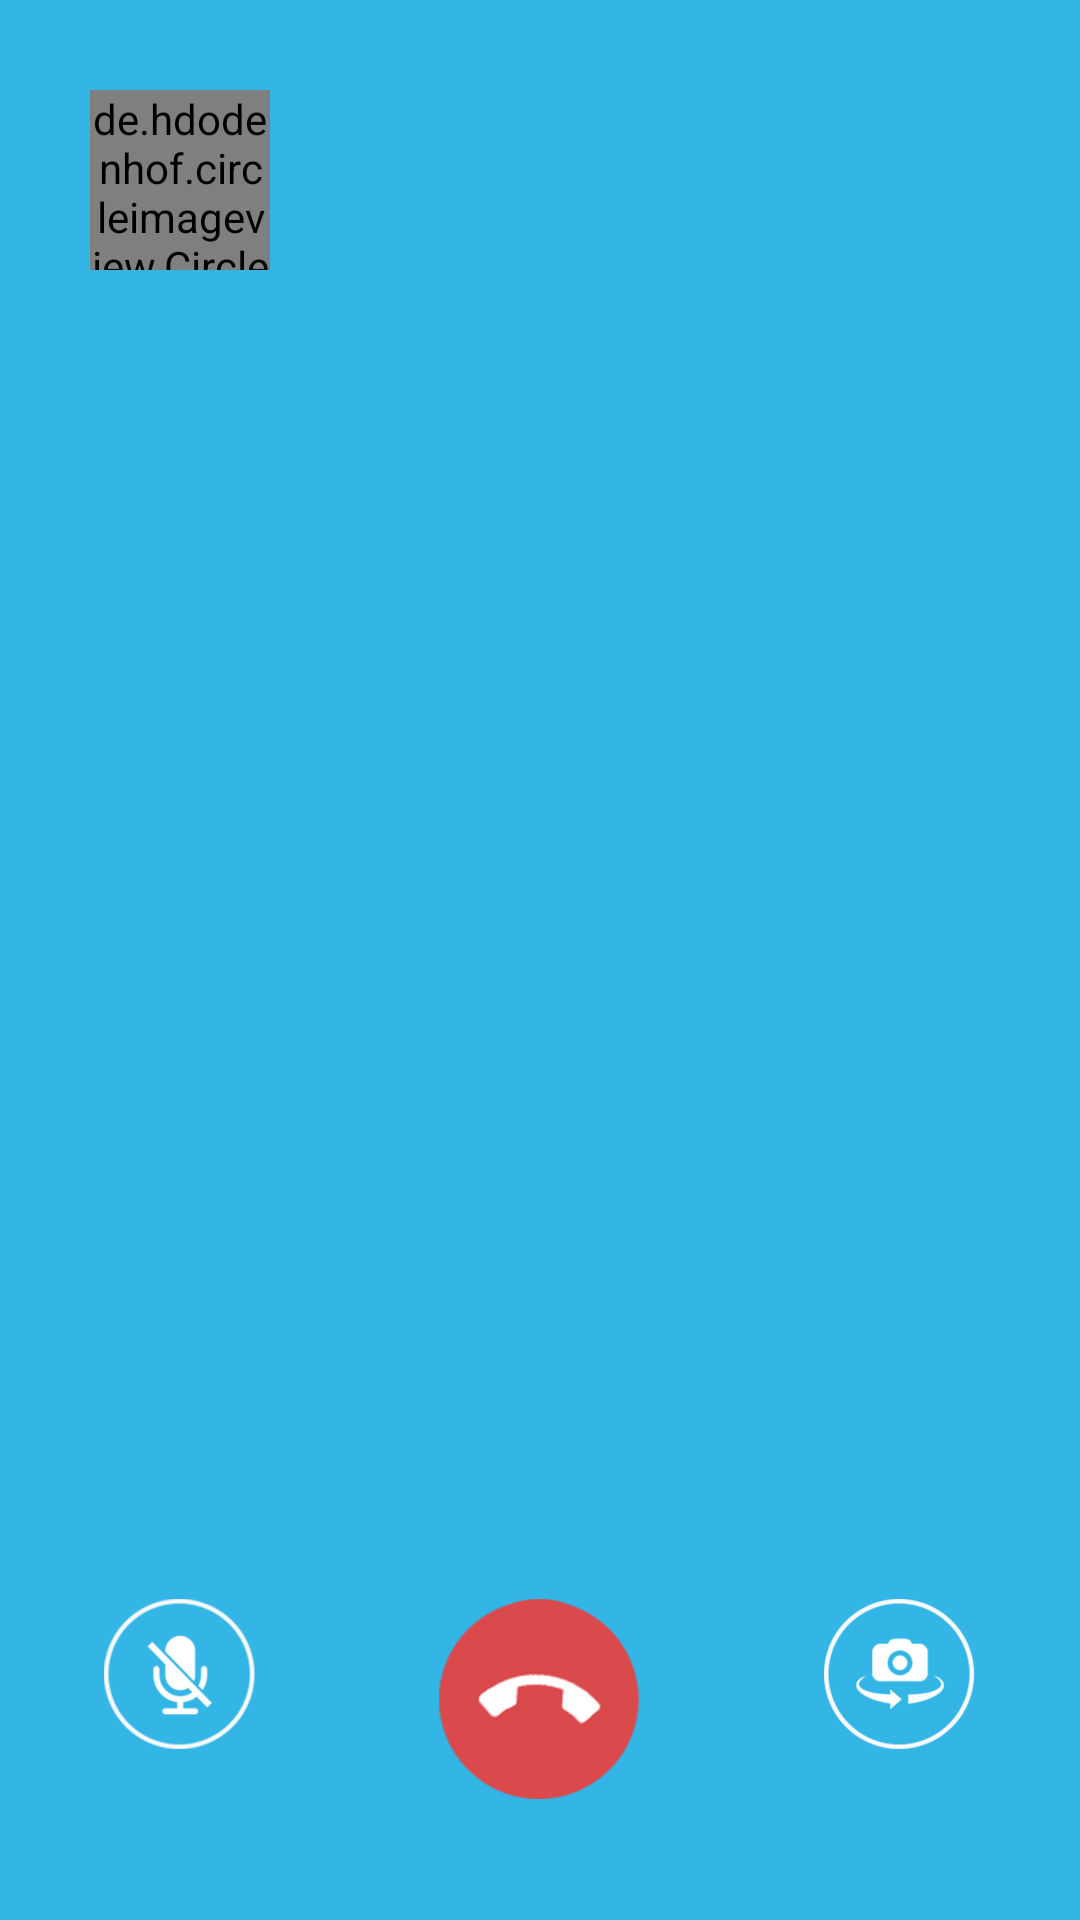

Screen size 1080x1920. Icon name, then its box in pixels as box(x1, y1, x2, y2):
switchcamera: box(824, 1599, 975, 1749)
unmute: box(104, 1599, 255, 1749)
